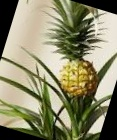Pineapple: (40, 8, 102, 95)
